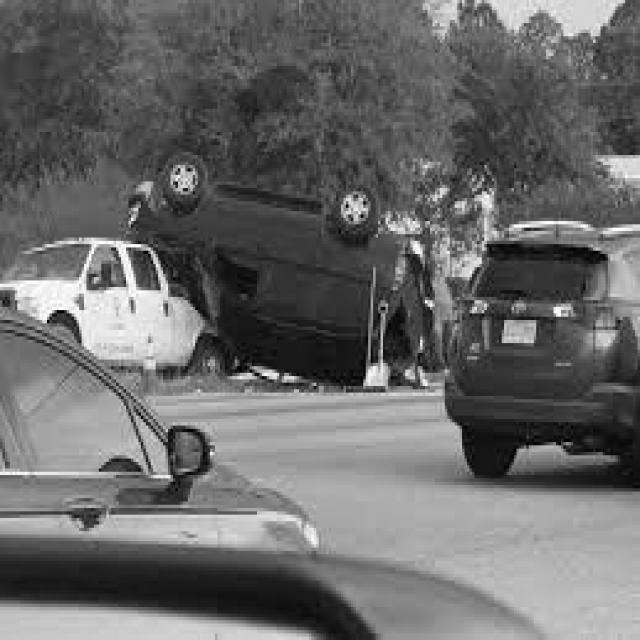accident: (0, 150, 437, 377)
vehicle: (0, 301, 330, 561), (448, 214, 640, 485)
